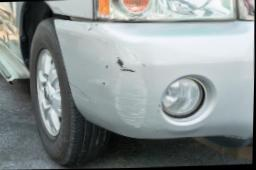Bumper: (53, 19, 170, 142)
